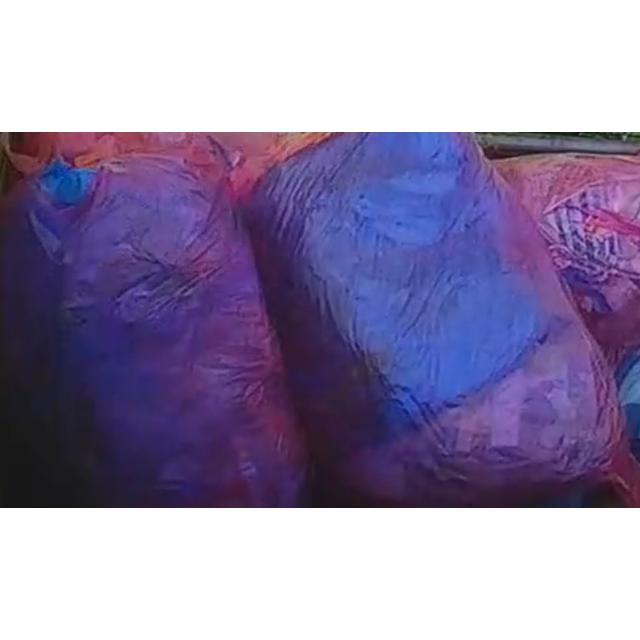other_trashbag: (246, 133, 624, 506), (0, 156, 305, 507), (496, 154, 640, 364), (0, 133, 334, 200), (620, 357, 640, 460)
